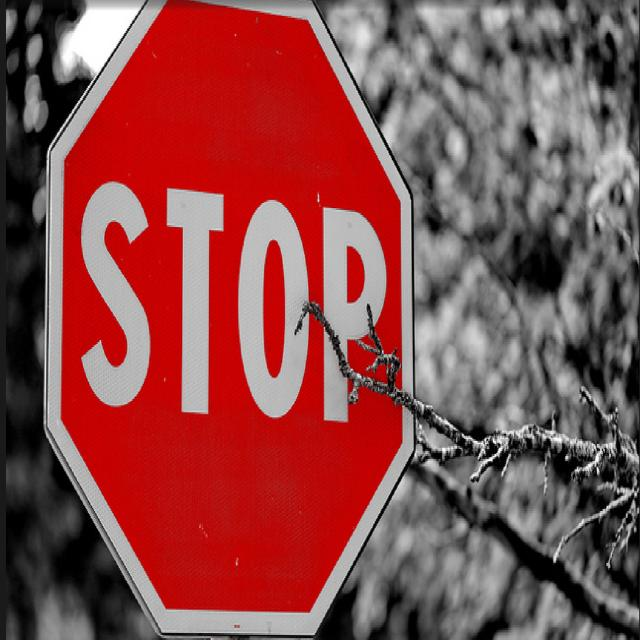STOP: (40, 0, 419, 639)
